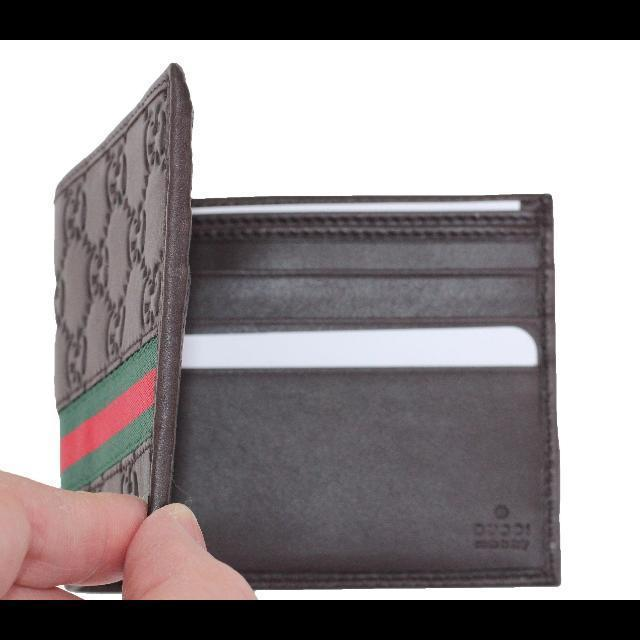wallet: (47, 59, 569, 592)
